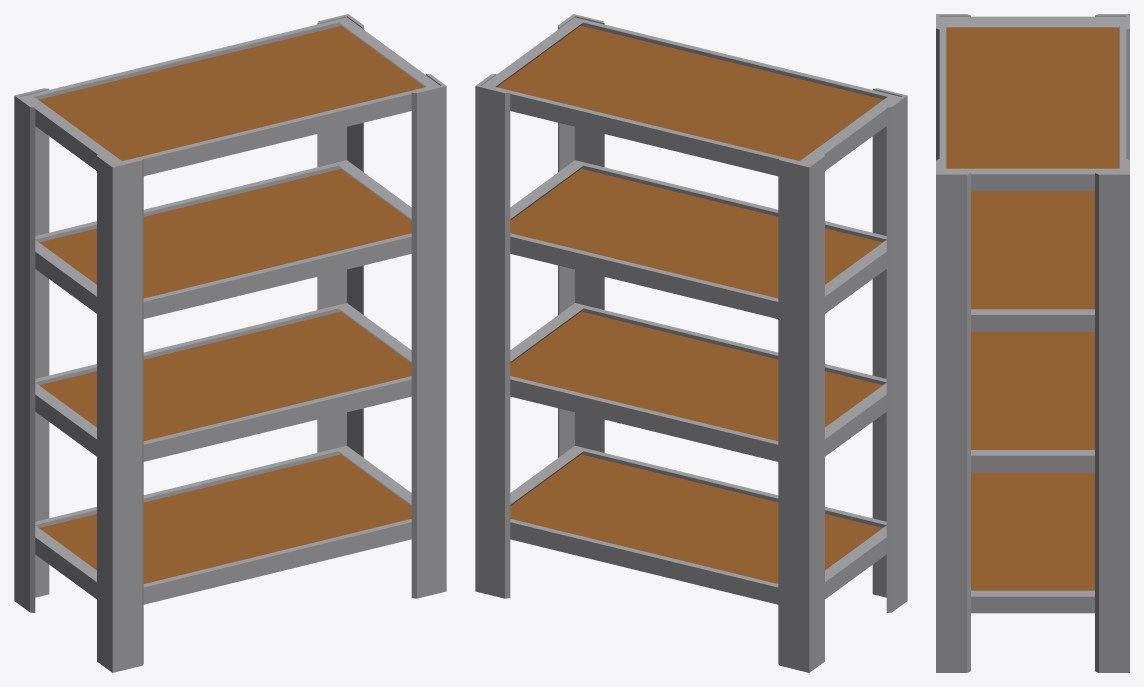
The model's file is Shelf.fbx.
3 views of the same model, side by side, from view 1: azimuth 30°, elevation 25°; view 2: azimuth 150°, elevation 25°; view 3: azimuth 270°, elevation 25° (orthographic).
Parts seen in each view (by area): view 1: Shelf; view 2: Shelf; view 3: Shelf.
Part boxes in pixels (x1,y1,x2,y2): Shelf: (14,14,446,672); Shelf: (475,14,907,672); Shelf: (936,14,1129,672).
Size of the model in its own units: 102 by 147 by 52.
